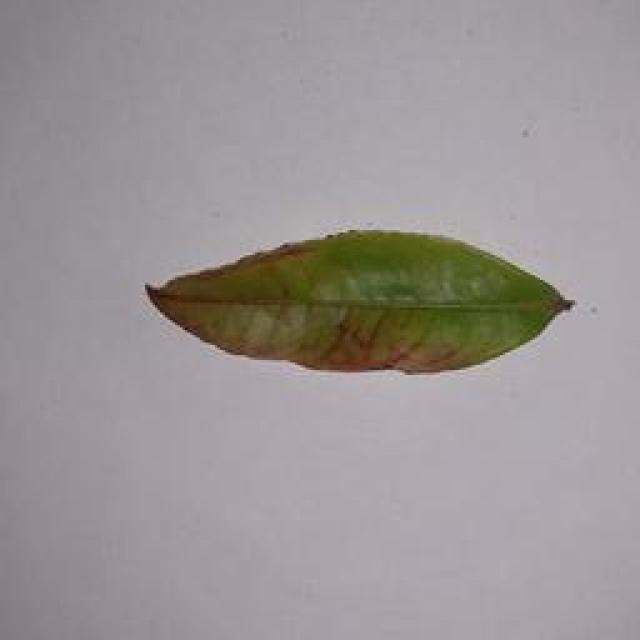Red Leaf Spot: (151, 217, 584, 374)
